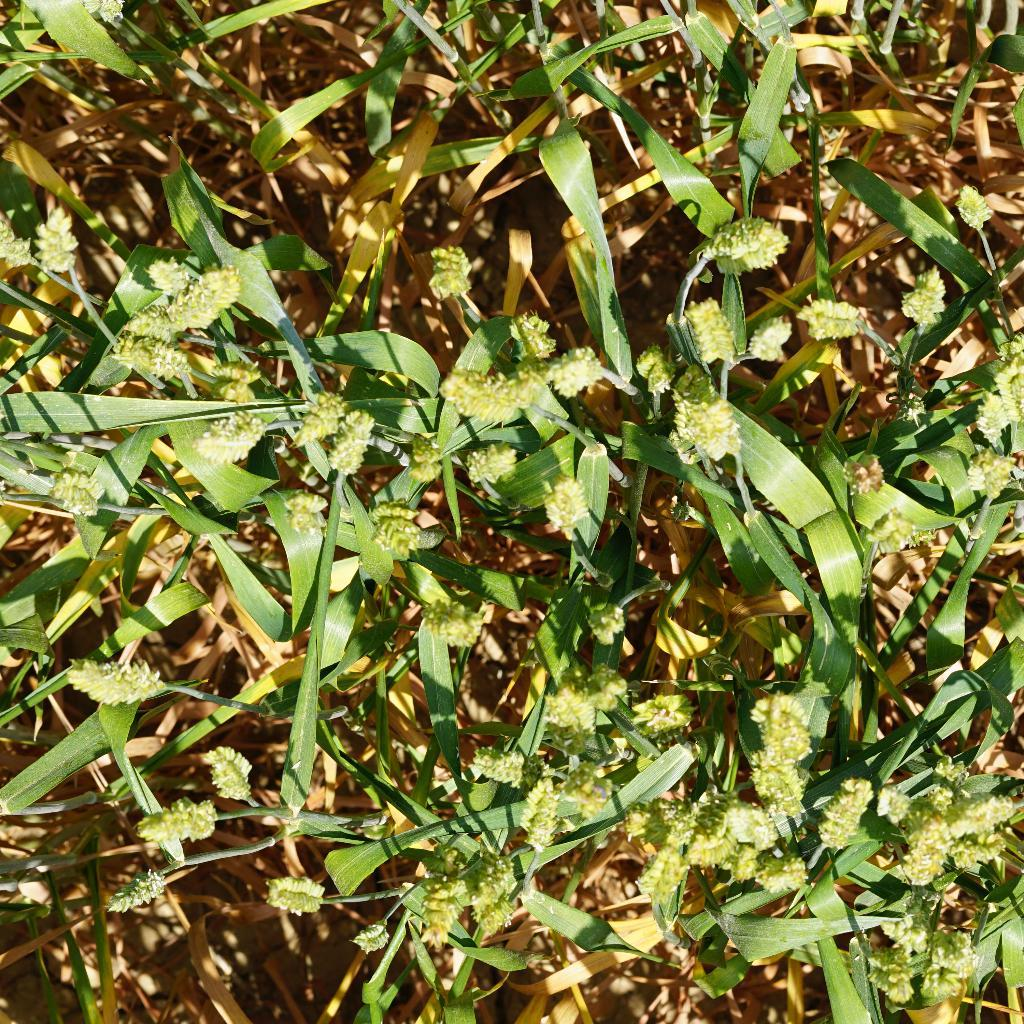0-0: (119, 261, 240, 332), (63, 642, 172, 707), (426, 363, 537, 426), (666, 385, 750, 463), (703, 212, 795, 281), (526, 672, 595, 757), (733, 737, 810, 813), (800, 283, 877, 358), (126, 784, 217, 847), (800, 763, 863, 852), (30, 458, 105, 529), (518, 774, 576, 862), (919, 915, 976, 1004), (418, 589, 496, 651), (194, 402, 268, 467), (754, 688, 819, 762), (731, 841, 813, 899), (894, 798, 944, 890), (959, 429, 1021, 503), (629, 687, 705, 747), (452, 728, 526, 787), (467, 851, 522, 930), (888, 266, 965, 322), (119, 322, 197, 377), (623, 789, 688, 854), (27, 205, 86, 276), (205, 739, 264, 810), (688, 287, 740, 366), (935, 784, 1012, 837), (426, 238, 489, 301), (530, 468, 593, 530), (324, 411, 376, 486), (369, 490, 419, 567), (552, 343, 612, 407), (859, 941, 914, 1009), (549, 759, 612, 818), (637, 836, 690, 906), (496, 301, 557, 361), (262, 869, 329, 923), (288, 380, 344, 443), (417, 867, 462, 945), (579, 597, 654, 642), (856, 507, 916, 562), (574, 657, 629, 716), (216, 354, 272, 411), (951, 178, 998, 245), (281, 483, 330, 545), (961, 381, 1008, 445), (108, 867, 167, 916), (688, 785, 732, 848), (460, 440, 520, 484), (0, 216, 42, 277), (346, 912, 400, 959), (722, 802, 780, 845), (745, 311, 795, 360), (835, 449, 885, 496), (631, 350, 676, 402), (137, 249, 190, 292), (403, 421, 440, 481), (889, 905, 933, 953), (415, 844, 472, 878), (927, 751, 969, 797), (871, 776, 912, 819), (896, 391, 926, 426), (663, 501, 694, 526)
